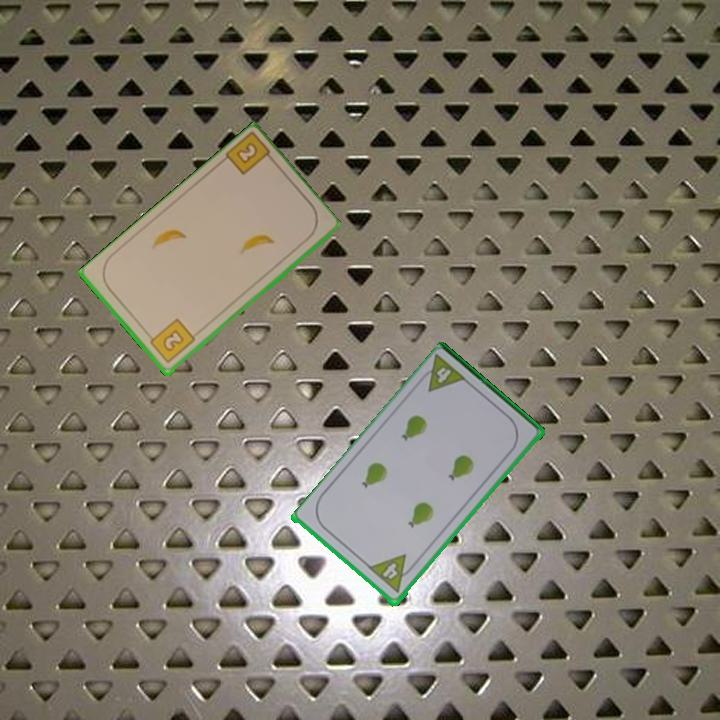2b: (144, 315, 198, 366), (221, 131, 279, 178)
4p: (367, 551, 407, 585), (433, 364, 454, 387)
